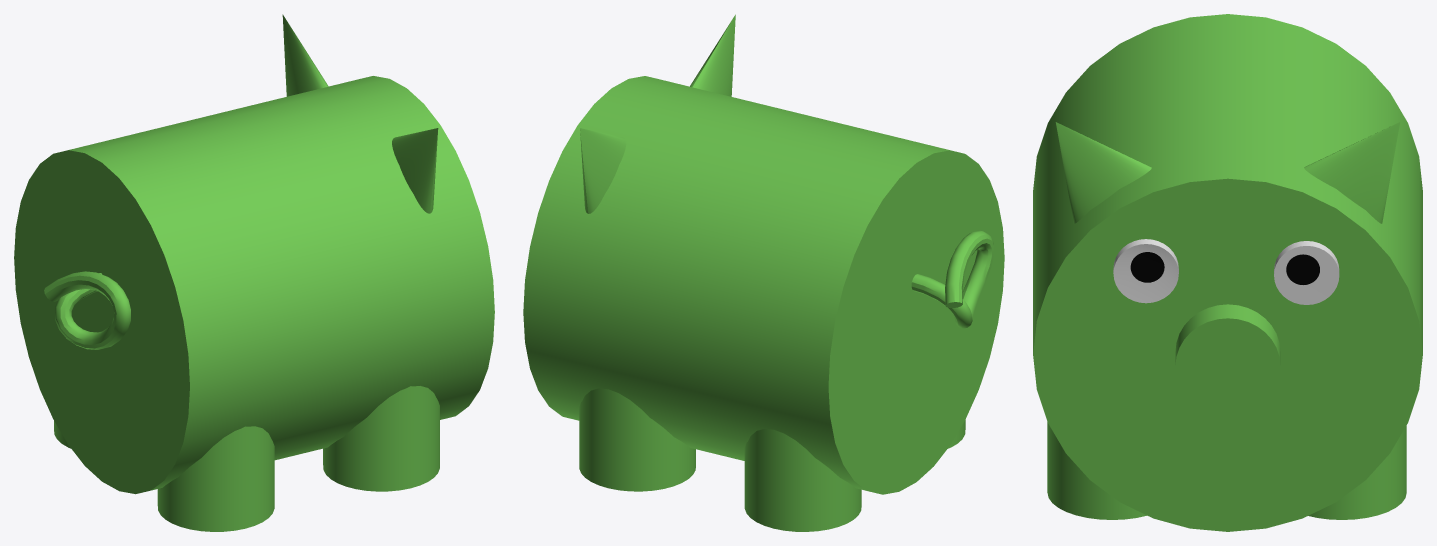
The model's file is Piggie.fbx.
3 renders of one model, left to right at view 1: azimuth 30°, elevation 25°; view 2: azimuth 150°, elevation 25°; view 3: azimuth 270°, elevation 25°, orthographic. The views are drawn at different scales.
Visible parts, largest first — view 1: Piggie; view 2: Piggie; view 3: Piggie.
Boxes of the visible parts, x1,y1,x2,y2 form: Piggie: [14, 14, 494, 531]; Piggie: [523, 14, 1004, 531]; Piggie: [1033, 14, 1422, 531].
Size of the model in its own units: 102 by 81.27 by 89.2.
